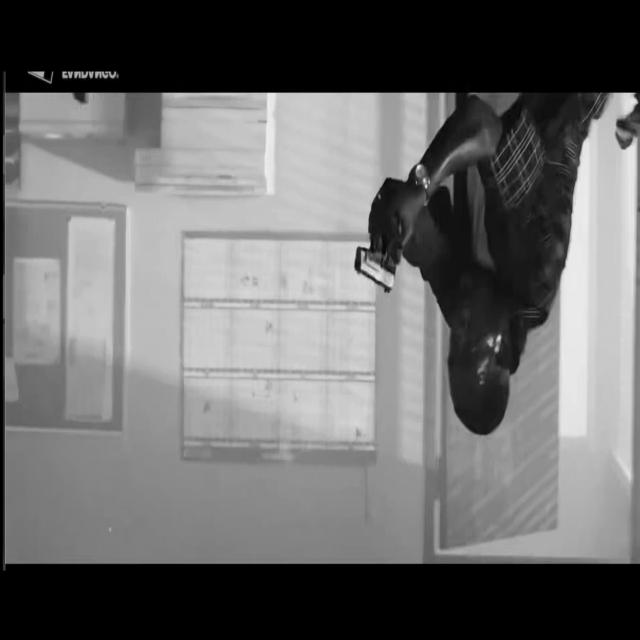weapons: (349, 190, 404, 308)
